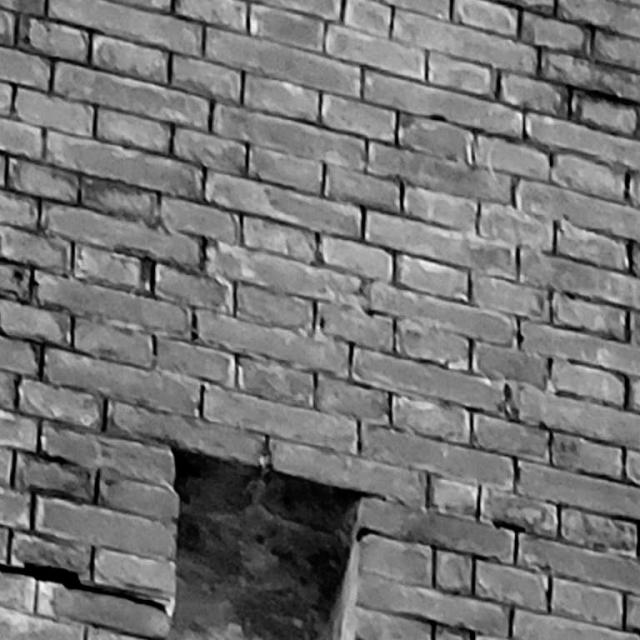crack: (1, 562, 164, 609)
